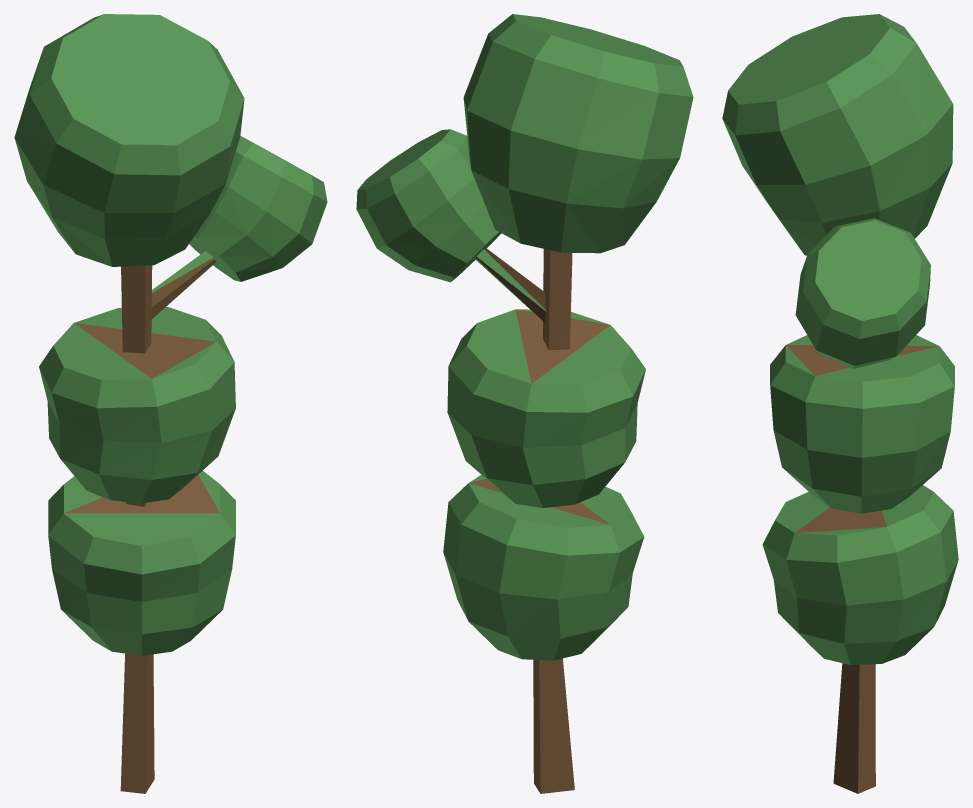
The model's file is tree3d-011.glb.
3 views of the same model, side by side, from view 1: azimuth 30°, elevation 25°; view 2: azimuth 150°, elevation 25°; view 3: azimuth 270°, elevation 25° (orthographic). The views are drawn at different scales.
Parts seen in each view (by area): view 1: tree3d-011; view 2: tree3d-011; view 3: tree3d-011.
Part boxes in pixels (left/top/right/bottom): tree3d-011: left=14, top=14, right=327, bottom=793; tree3d-011: left=356, top=14, right=693, bottom=793; tree3d-011: left=722, top=14, right=958, bottom=793.
Size of the model in its own units: 0.4016 by 1 by 0.2857.
